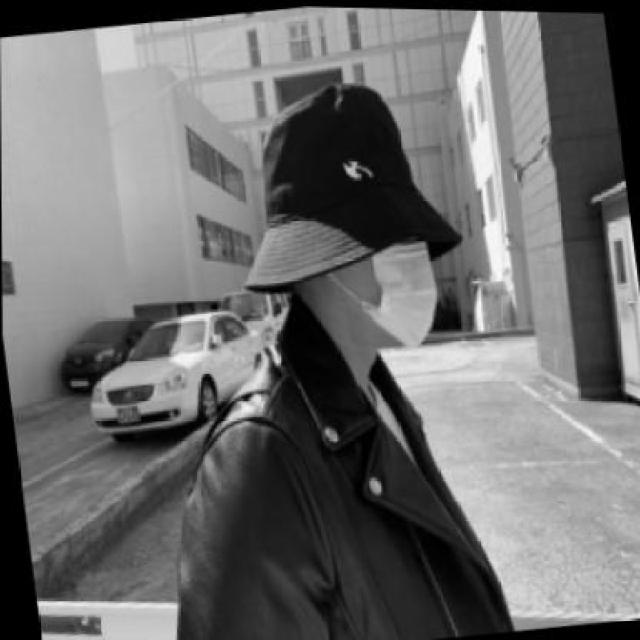hat: (209, 61, 468, 296)
